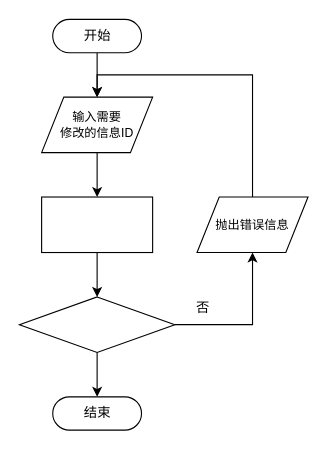
The diagram is 327 pixels wide and 450 high, and some of its shapes have lost their labels. The box of each missing label's shape, as (x1, y1, x2, y2) in pixels:
修改信息: (41, 196, 153, 253)
检查是否 修改成功: (18, 296, 175, 352)
